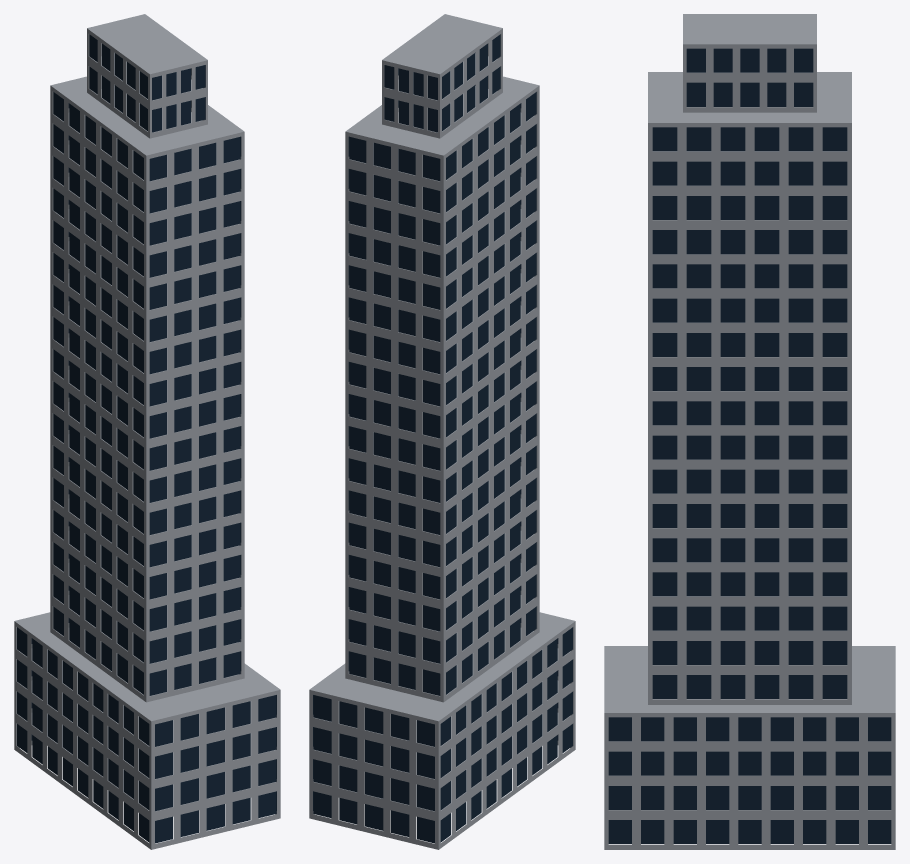
File: Residential Buildings 007.obj
3 renders of one model, left to right at view 1: azimuth 30°, elevation 25°; view 2: azimuth 150°, elevation 25°; view 3: azimuth 270°, elevation 25°, orthographic. The views are drawn at different scales.
Visible parts, largest first — view 1: Residential; view 2: Residential; view 3: Residential.
Part boxes in pixels (x1,y1,x2,y2): Residential: [14, 14, 280, 849]; Residential: [309, 14, 575, 849]; Residential: [604, 14, 895, 849].
Bounding box in the file's own units: 12.59 × 68.79 × 23.1.
